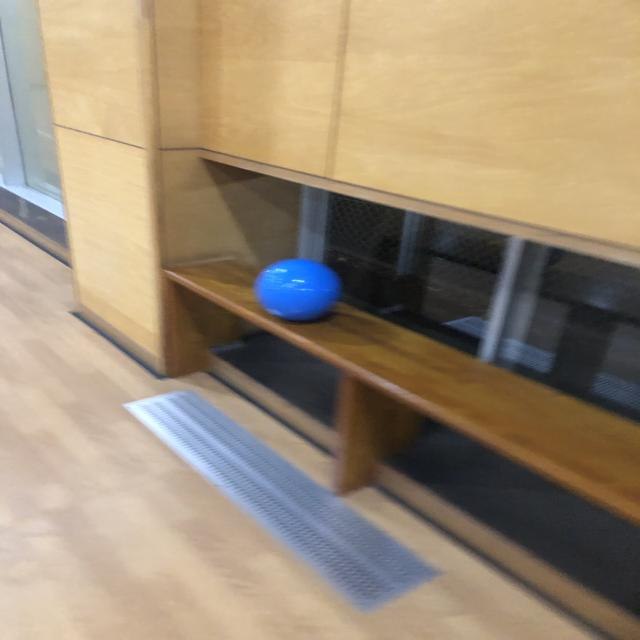blue_ball: (255, 254, 345, 326)
